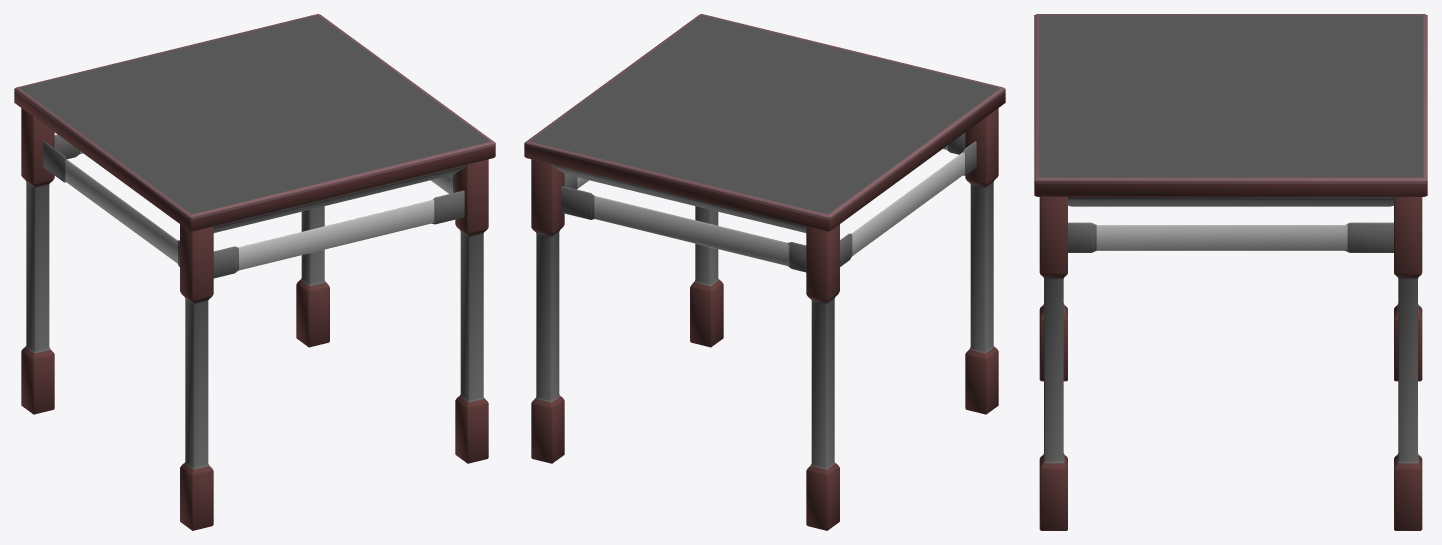
The model's file is Platform.fbx.
The picture shows the model from 3 angles, left to right: view 1: azimuth 30°, elevation 25°; view 2: azimuth 150°, elevation 25°; view 3: azimuth 270°, elevation 25°; orthographic projection. The views are drawn at different scales.
Parts seen in each view (by area): view 1: Cube; view 2: Cube; view 3: Cube.
Part boxes in pixels (x1,y1,x2,y2): Cube: (14, 14, 495, 530); Cube: (524, 14, 1005, 530); Cube: (1034, 14, 1427, 530).
Size of the model in its own units: 200 by 199 by 200.
